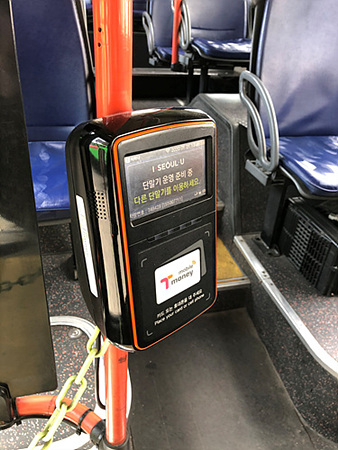terminal: (70, 107, 220, 329)
